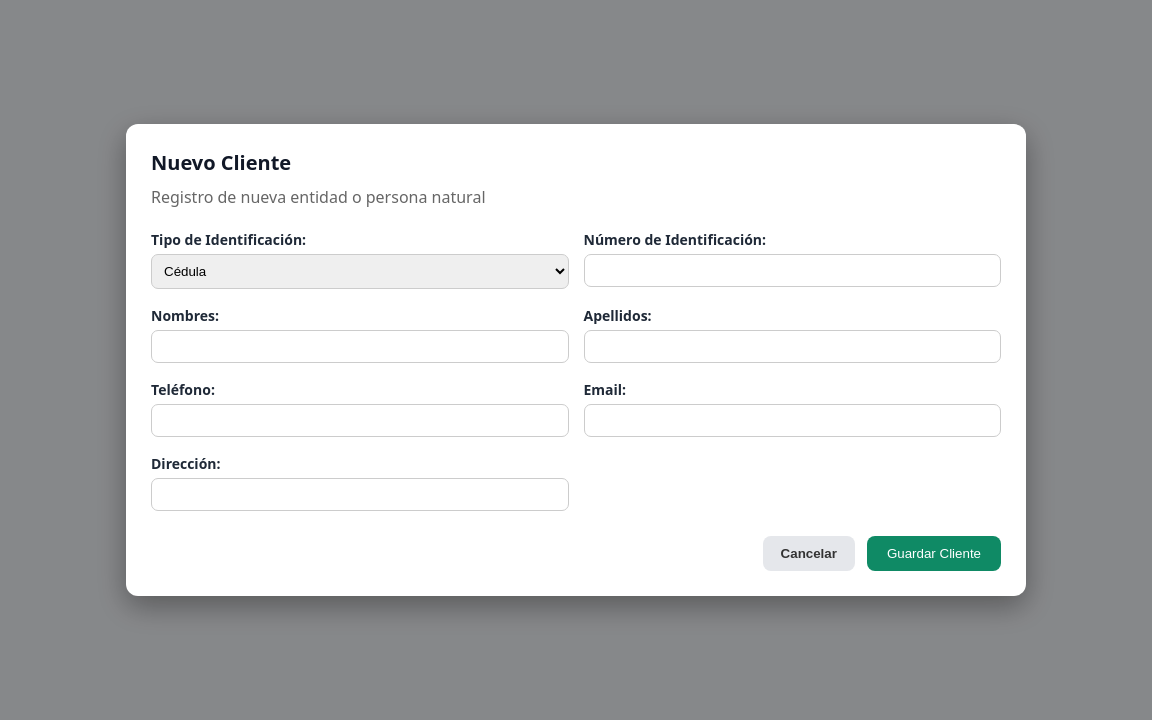
Scenario: ClientModal Component › shows validation errors when saving empty form
Click the button "Guardar Cliente" at {"x": 934, "y": 554}, box [867,536,1001,571]
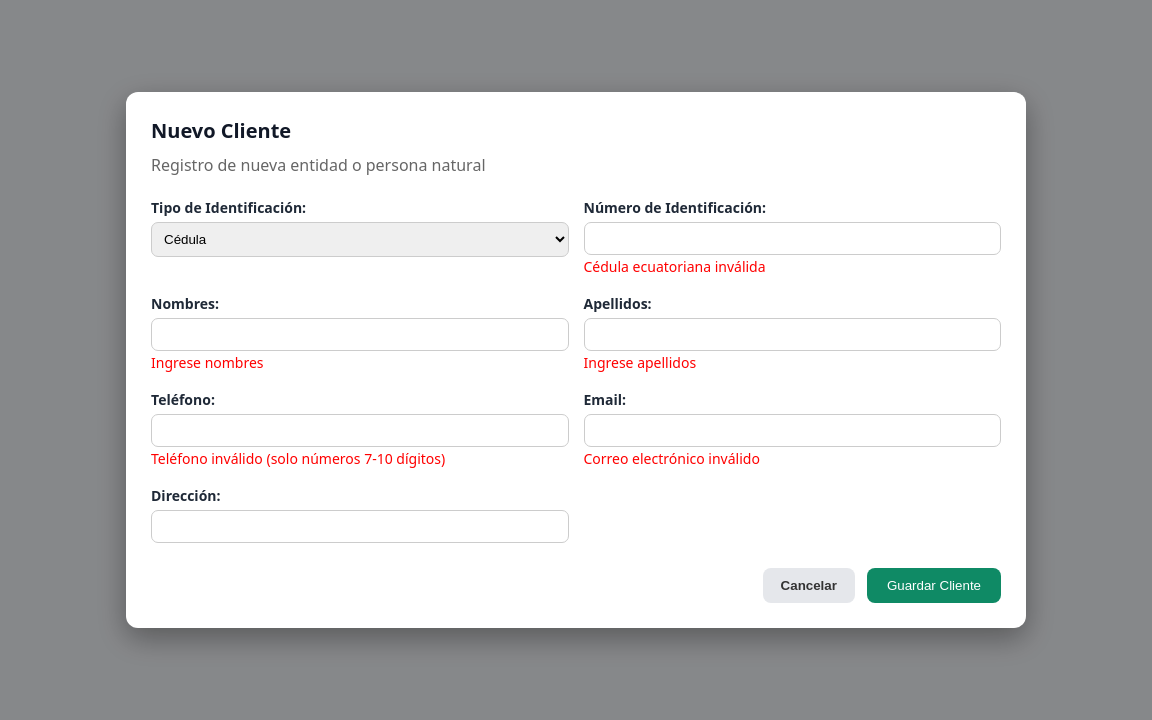
Expected: the text "Ingrese nombres" is shown, [151,353,264,372]
Expected: the text "Ingrese apellidos" is shown, [584,353,696,372]
